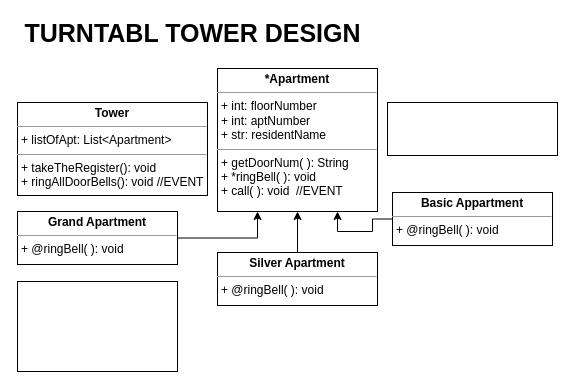
Some shapes in this 575 by 389 pixel diagram are drawn without their labels. Each missing label, with the box of its shape:
ConciergeDesk + receiveCalls( ): void // SLOT: (386, 102, 558, 156)
NobodyHomeException + field: Type + method(): Type: (16, 280, 178, 372)
